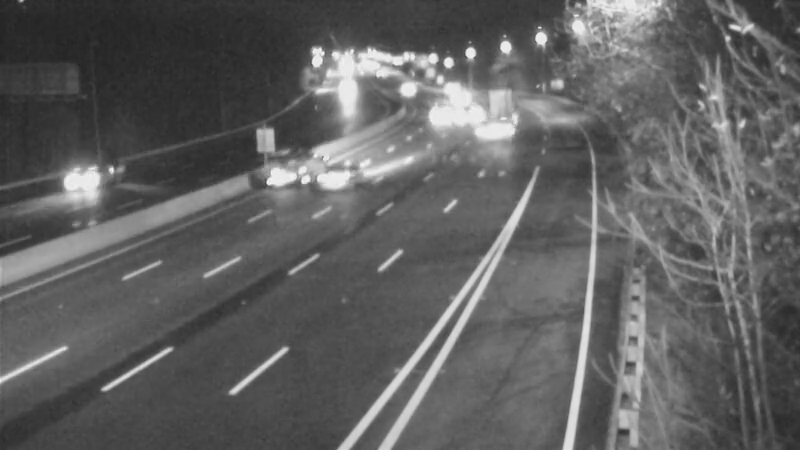vehicle: (301, 141, 381, 221), (248, 128, 328, 208), (39, 142, 119, 222), (419, 59, 469, 109), (378, 63, 428, 113), (436, 76, 486, 126), (413, 85, 463, 135), (438, 87, 488, 137), (473, 96, 523, 146)
